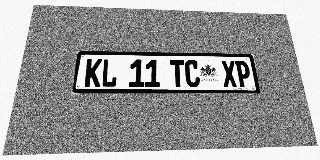1: (129, 59, 144, 87), (145, 59, 160, 87)
C: (184, 60, 200, 87)
K: (84, 59, 102, 87)
L: (101, 59, 118, 87)
P: (235, 61, 252, 87)
T: (170, 60, 185, 87)
X: (221, 61, 238, 87)
